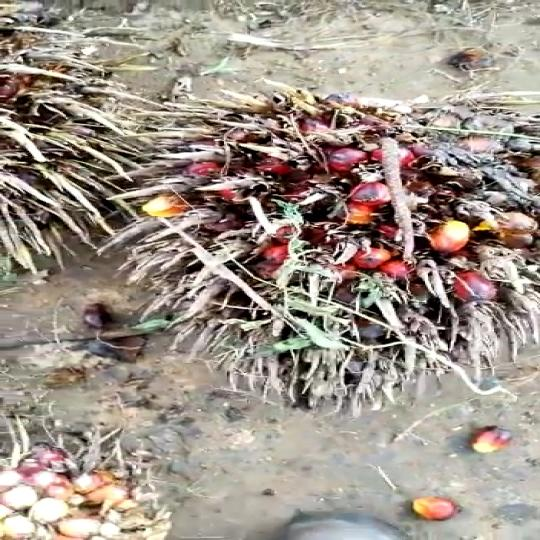terlalu masak: (107, 74, 540, 427)
